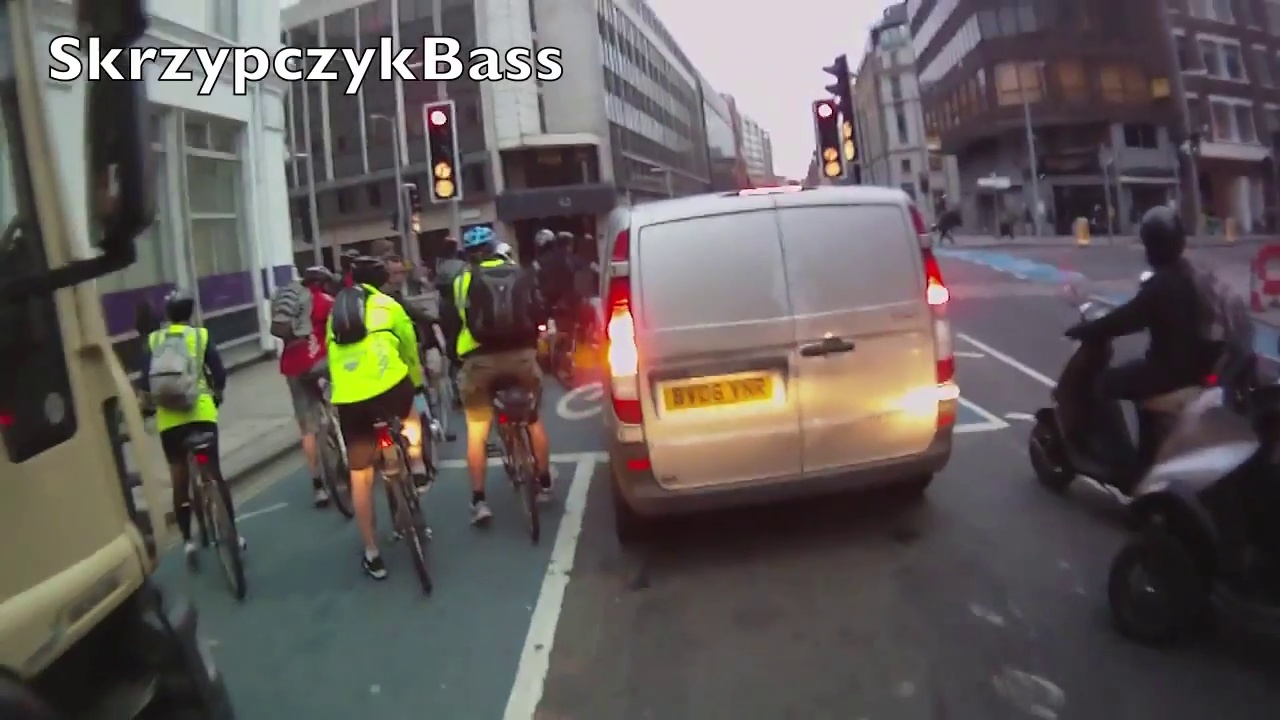cyclist_back: (320, 250, 458, 608), (451, 225, 563, 556), (135, 285, 251, 602), (268, 253, 367, 533)
